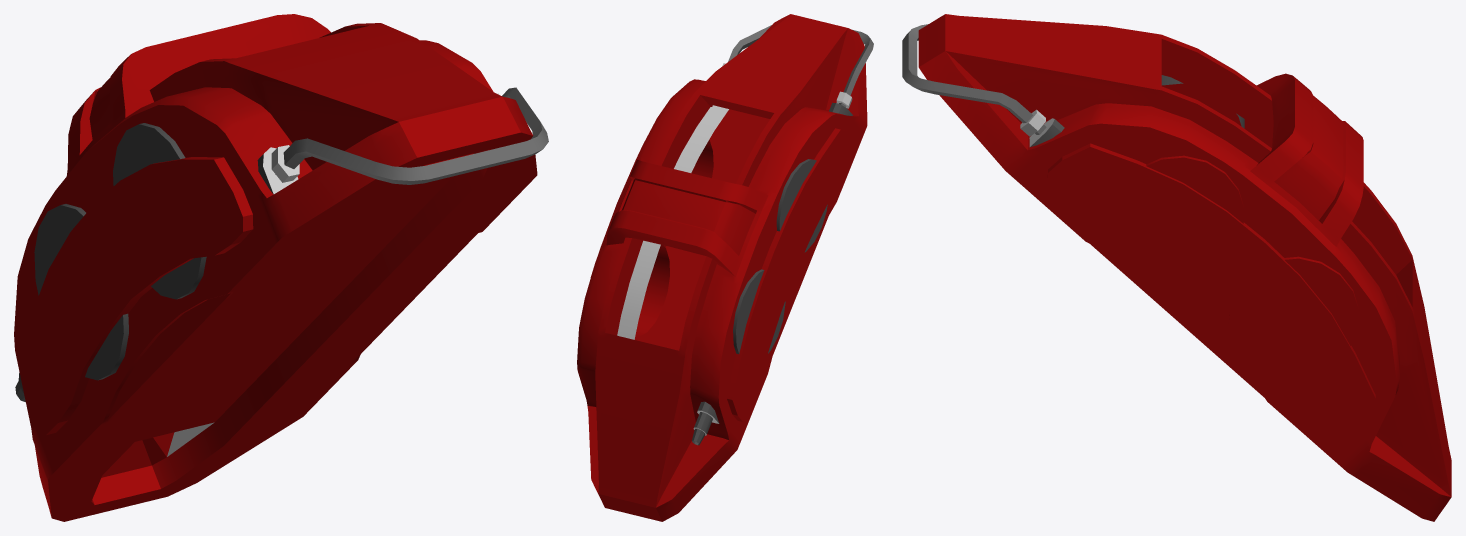
Rendered from redbreaks.fbx.
The picture shows the model from 3 angles, left to right: view 1: azimuth 30°, elevation 25°; view 2: azimuth 150°, elevation 25°; view 3: azimuth 270°, elevation 25°; orthographic projection. The views are drawn at different scales.
Visible parts, largest first — view 1: wheels3.001; view 2: wheels3.001; view 3: wheels3.001.
Boxes of the visible parts, box(x1,y1,x2,y2) form: wheels3.001: box(14, 14, 548, 521); wheels3.001: box(577, 14, 873, 521); wheels3.001: box(902, 14, 1451, 521).
Size of the model in its own units: 36.46 by 81.63 by 86.27.
